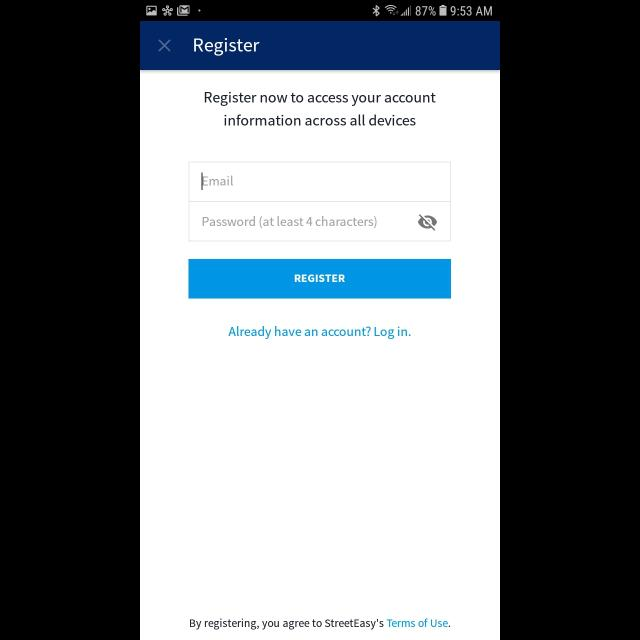icon: (418, 214, 438, 232), (158, 40, 172, 52)
input: (189, 162, 451, 202), (189, 202, 451, 242)
text: (204, 92, 436, 126), (190, 618, 450, 630), (229, 325, 411, 339), (202, 216, 378, 228), (194, 38, 260, 56), (202, 176, 234, 186)
textbutton: (189, 259, 451, 299)
uppertaskbar: (140, 1, 500, 22)
